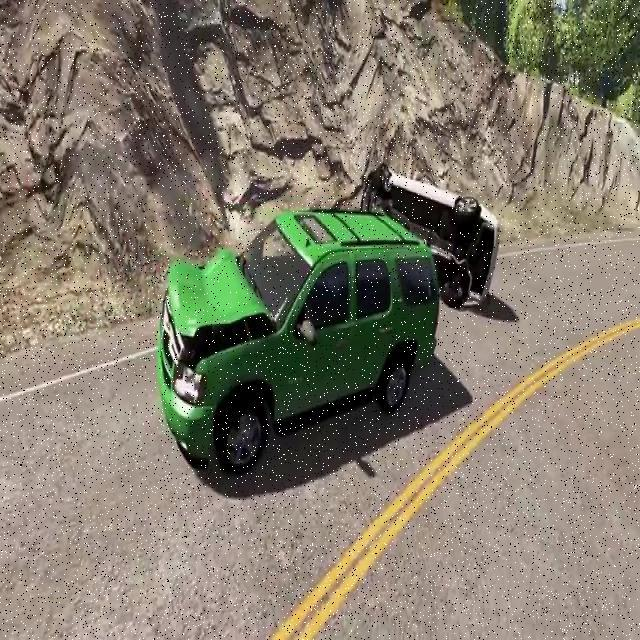high-cars-accident: (173, 157, 500, 460)
